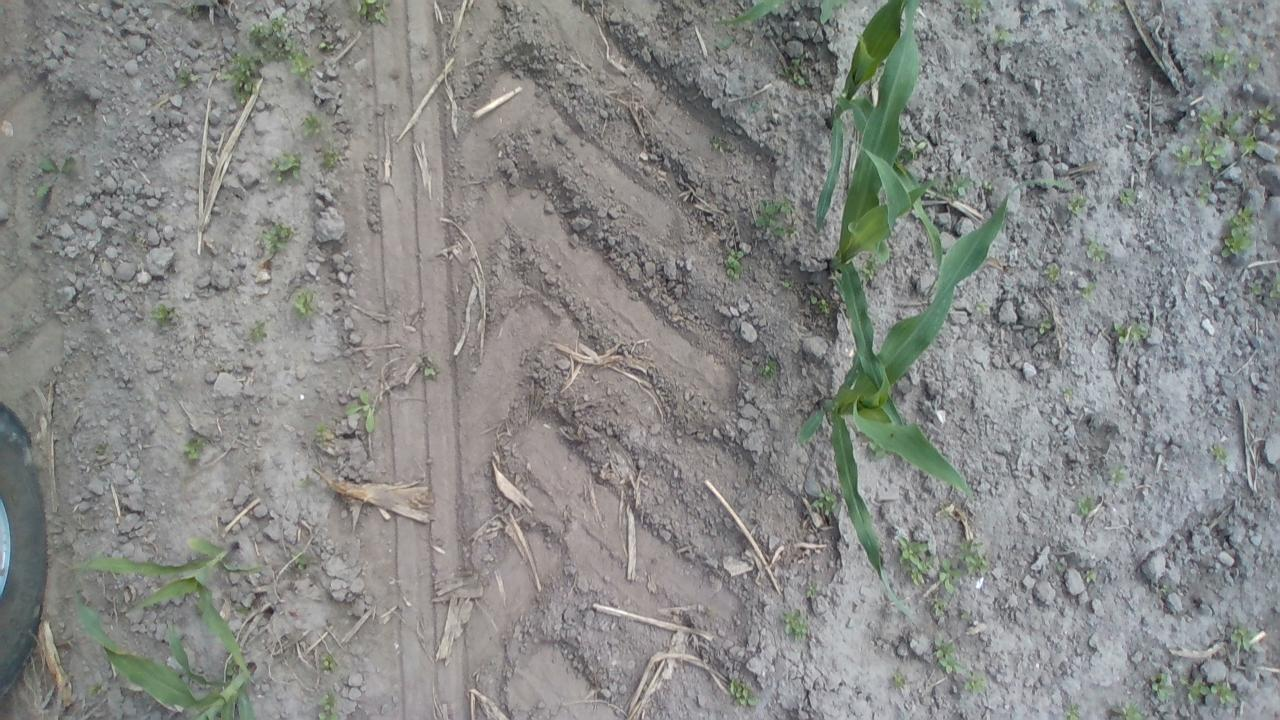Maize: (796, 180, 1079, 632), (822, 4, 934, 413), (76, 534, 260, 686), (71, 583, 262, 720), (812, 0, 911, 241), (716, 0, 790, 27)
Weeds: (218, 48, 264, 102), (247, 13, 298, 61), (33, 155, 80, 207), (1192, 106, 1228, 168), (753, 196, 799, 241), (896, 537, 936, 584), (1180, 673, 1236, 706), (1222, 205, 1256, 258), (256, 219, 296, 258), (930, 636, 966, 678), (1198, 49, 1240, 83), (343, 391, 379, 430), (960, 538, 994, 578), (267, 150, 305, 184), (291, 47, 321, 86), (1110, 318, 1148, 348), (352, 0, 393, 27), (813, 485, 847, 516), (1167, 142, 1201, 172), (289, 286, 319, 320), (936, 556, 964, 592), (1148, 669, 1175, 703), (310, 419, 340, 449), (314, 688, 342, 720), (318, 136, 344, 170), (780, 608, 809, 638), (722, 246, 748, 279), (751, 352, 786, 376), (726, 677, 754, 706), (316, 649, 342, 679), (182, 433, 208, 463), (299, 110, 329, 136), (787, 56, 813, 86), (938, 173, 968, 199), (1230, 625, 1258, 652), (86, 674, 112, 703), (902, 137, 932, 162), (175, 62, 200, 91), (150, 298, 180, 322), (415, 354, 442, 380), (247, 318, 274, 344), (858, 252, 881, 282), (704, 132, 735, 154), (1232, 129, 1258, 155), (1087, 238, 1110, 267), (1116, 700, 1148, 720), (288, 548, 309, 578), (1072, 493, 1096, 519), (989, 26, 1020, 46), (1041, 264, 1067, 286), (1032, 313, 1054, 339), (1254, 100, 1276, 126), (806, 292, 831, 314), (1244, 52, 1266, 76), (1211, 22, 1235, 44), (964, 672, 988, 694), (1079, 278, 1100, 303), (964, 1, 991, 20), (1115, 186, 1137, 209), (1224, 106, 1243, 132), (1210, 442, 1232, 464), (1195, 183, 1216, 206), (1066, 192, 1086, 216), (1108, 464, 1132, 484), (92, 438, 113, 460), (318, 36, 340, 55), (297, 472, 320, 490), (1267, 271, 1280, 302), (174, 3, 200, 18), (1056, 384, 1080, 400), (721, 31, 739, 52), (929, 597, 946, 619), (1080, 566, 1100, 584), (802, 580, 819, 600), (894, 669, 910, 690), (972, 176, 995, 190), (1062, 704, 1082, 718), (1086, 0, 1104, 14), (1248, 280, 1262, 296), (780, 278, 794, 293), (974, 300, 990, 312), (958, 608, 972, 621)
